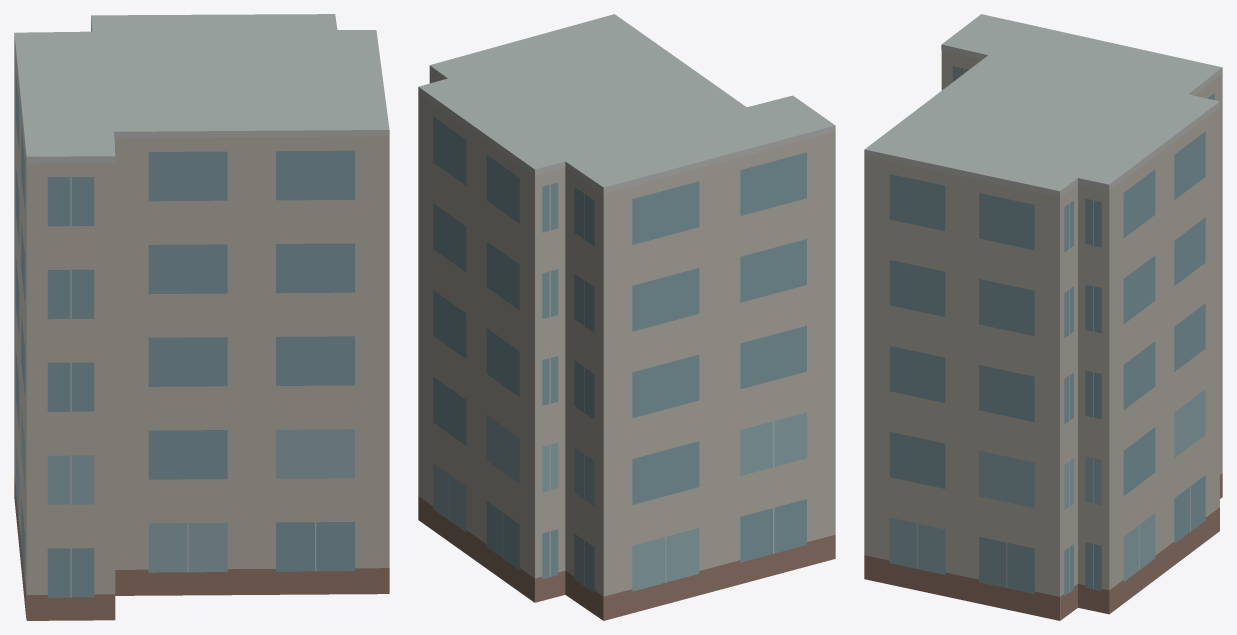
File: survey-upis-32994548.glb
The picture shows the model from 3 angles, left to right: view 1: azimuth 30°, elevation 25°; view 2: azimuth 150°, elevation 25°; view 3: azimuth 270°, elevation 25°; orthographic projection. The views are drawn at different scales.
Visible parts, largest first — view 1: survey-upis-32994548.tmp; view 2: survey-upis-32994548.tmp; view 3: survey-upis-32994548.tmp.
Boxes of the visible parts, x1=… form: survey-upis-32994548.tmp: x1=14, y1=14, x2=389, y2=620; survey-upis-32994548.tmp: x1=418, y1=14, x2=835, y2=620; survey-upis-32994548.tmp: x1=864, y1=14, x2=1222, y2=620.
Bounding box in the file's own units: 15.49 × 17.5 × 13.23.
